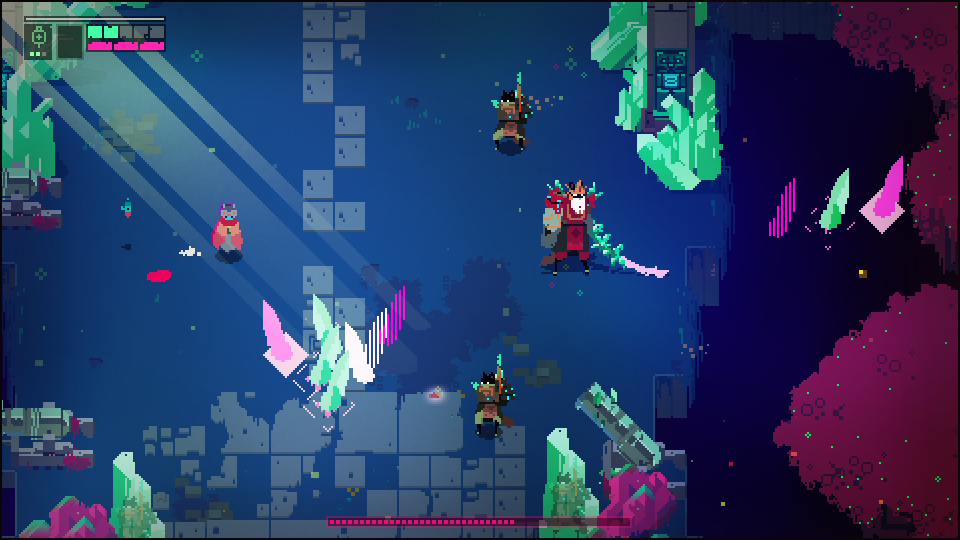hanged_crys: (298, 321, 343, 386), (763, 173, 804, 241), (871, 154, 908, 224), (261, 294, 294, 367), (820, 166, 851, 237), (377, 284, 410, 347)
hanged_man: (533, 176, 634, 279)
player: (211, 196, 245, 265)
